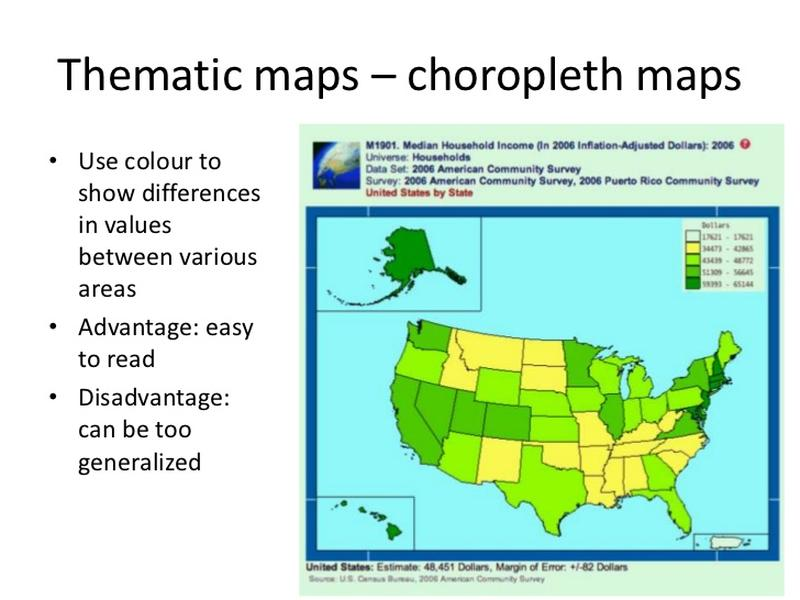legend: (681, 216, 769, 290)
